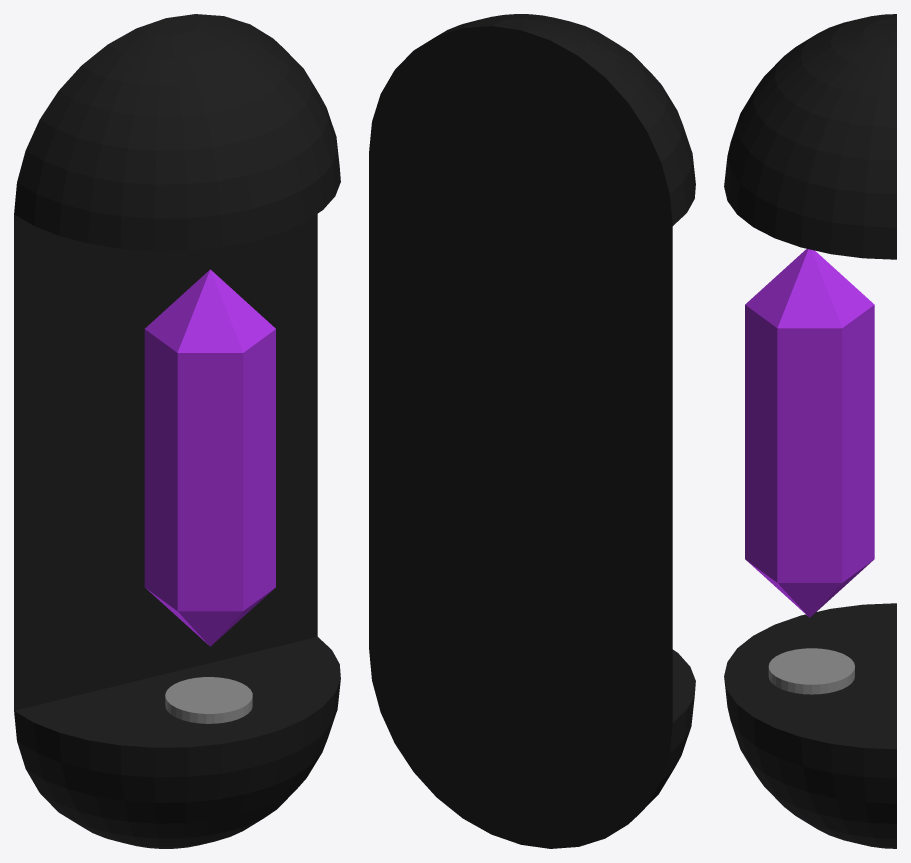
Rendered from Lock.fbx.
3 views of the same model, side by side, from view 1: azimuth 30°, elevation 25°; view 2: azimuth 150°, elevation 25°; view 3: azimuth 270°, elevation 25° (orthographic).
Parts seen in each view (by area): view 1: Sphere, Crystal, Stand; view 2: Sphere; view 3: Sphere, Crystal, Stand.
Part boxes in pixels (x1=…): Sphere: x1=14, y1=14, x2=340, y2=848; Crystal: x1=144, y1=269, x2=275, y2=646; Stand: x1=165, y1=677, x2=252, y2=723; Sphere: x1=369, y1=14, x2=695, y2=848; Sphere: x1=724, y1=14, x2=896, y2=848; Crystal: x1=745, y1=249, x2=874, y2=617; Stand: x1=768, y1=648, x2=854, y2=694.
Bounding box in the file's own units: 16 × 41 × 8.
